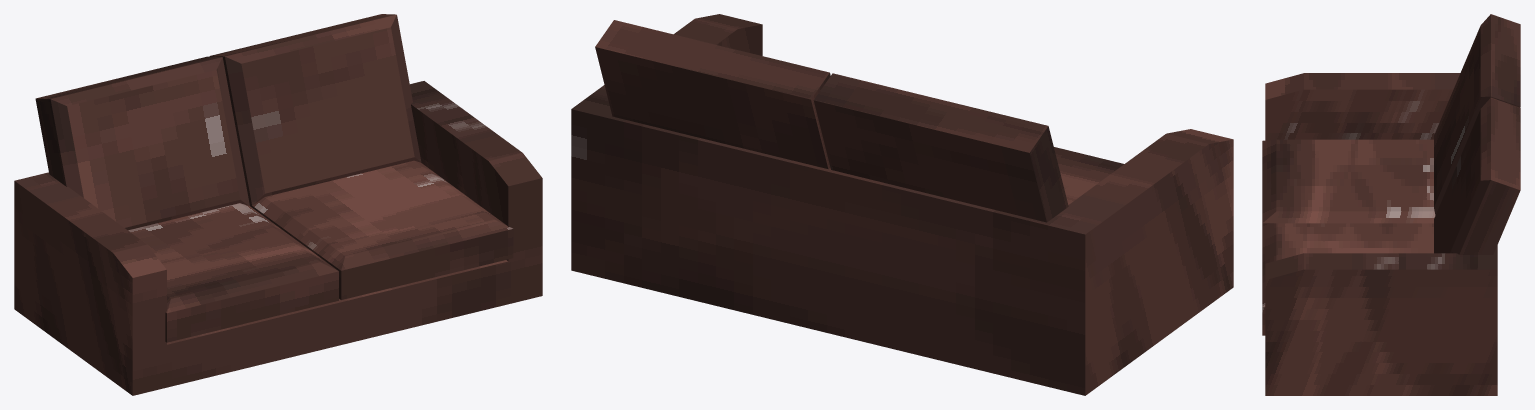
Rendered from sofa.glb.
3 views of the same model, side by side, from view 1: azimuth 30°, elevation 25°; view 2: azimuth 150°, elevation 25°; view 3: azimuth 270°, elevation 25° (orthographic). The views are drawn at different scales.
Visible parts, largest first — view 1: Cube.002; view 2: Cube.002; view 3: Cube.002.
Part boxes in pixels (left/top/right/bottom): Cube.002: left=14, top=14, right=542, bottom=395; Cube.002: left=571, top=14, right=1233, bottom=395; Cube.002: left=1262, top=14, right=1520, bottom=395.
Bounding box in the file's own units: 2 × 0.9552 × 1.11.
1 material, 1 textured.
